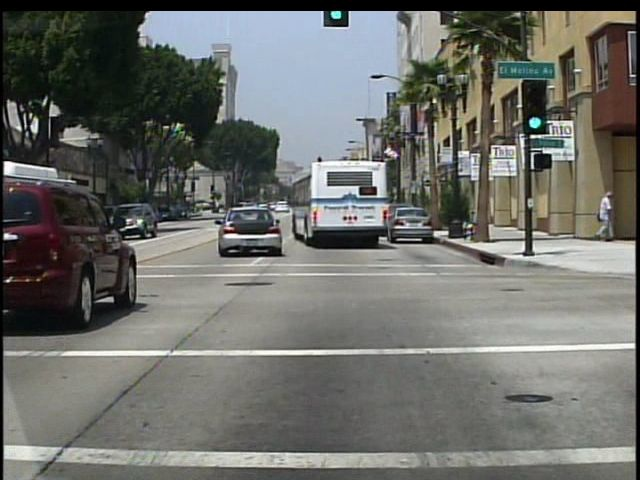person: (595, 191, 618, 244)
